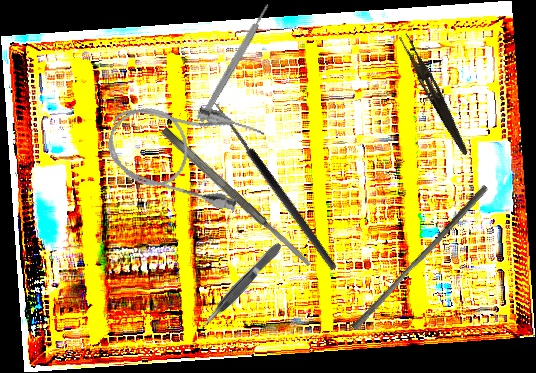Cannula: (99, 85, 267, 215)
Dressing Forceps: (394, 32, 475, 157)
Hook Surgical: (202, 99, 339, 278)
Pusher: (350, 179, 490, 336)
Scalpel Handle: (197, 2, 272, 124)
Spatula Surgical: (159, 125, 314, 270)
Tissue Forceps: (198, 240, 286, 331)
